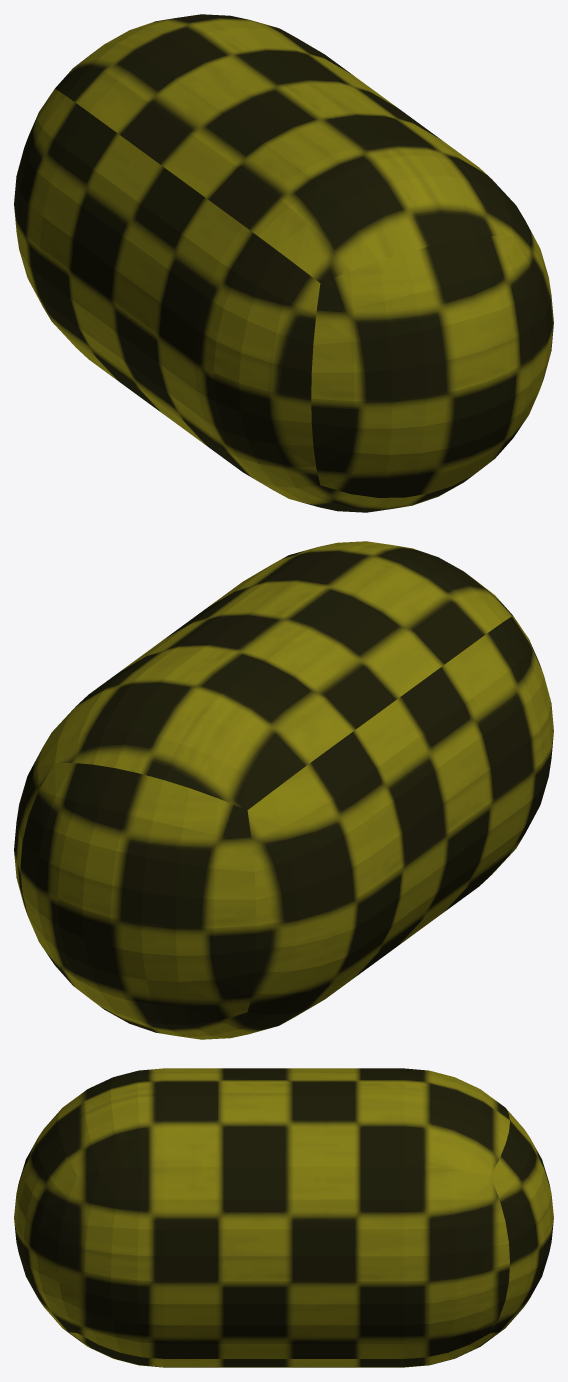
The picture shows the model from 3 angles, top to bottom: view 1: azimuth 30°, elevation 25°; view 2: azimuth 150°, elevation 25°; view 3: azimuth 270°, elevation 25°; orthographic projection. The views are drawn at different scales.
Parts seen in each view (by area): view 1: Roundcube; view 2: Roundcube; view 3: Roundcube.
Boxes of the visible parts, left/top/right/bottom form: Roundcube: left=14, top=14, right=553, bottom=512; Roundcube: left=14, top=541, right=553, bottom=1039; Roundcube: left=14, top=1068, right=553, bottom=1367.
Bounding box in the file's own units: 100 × 100 × 180.
